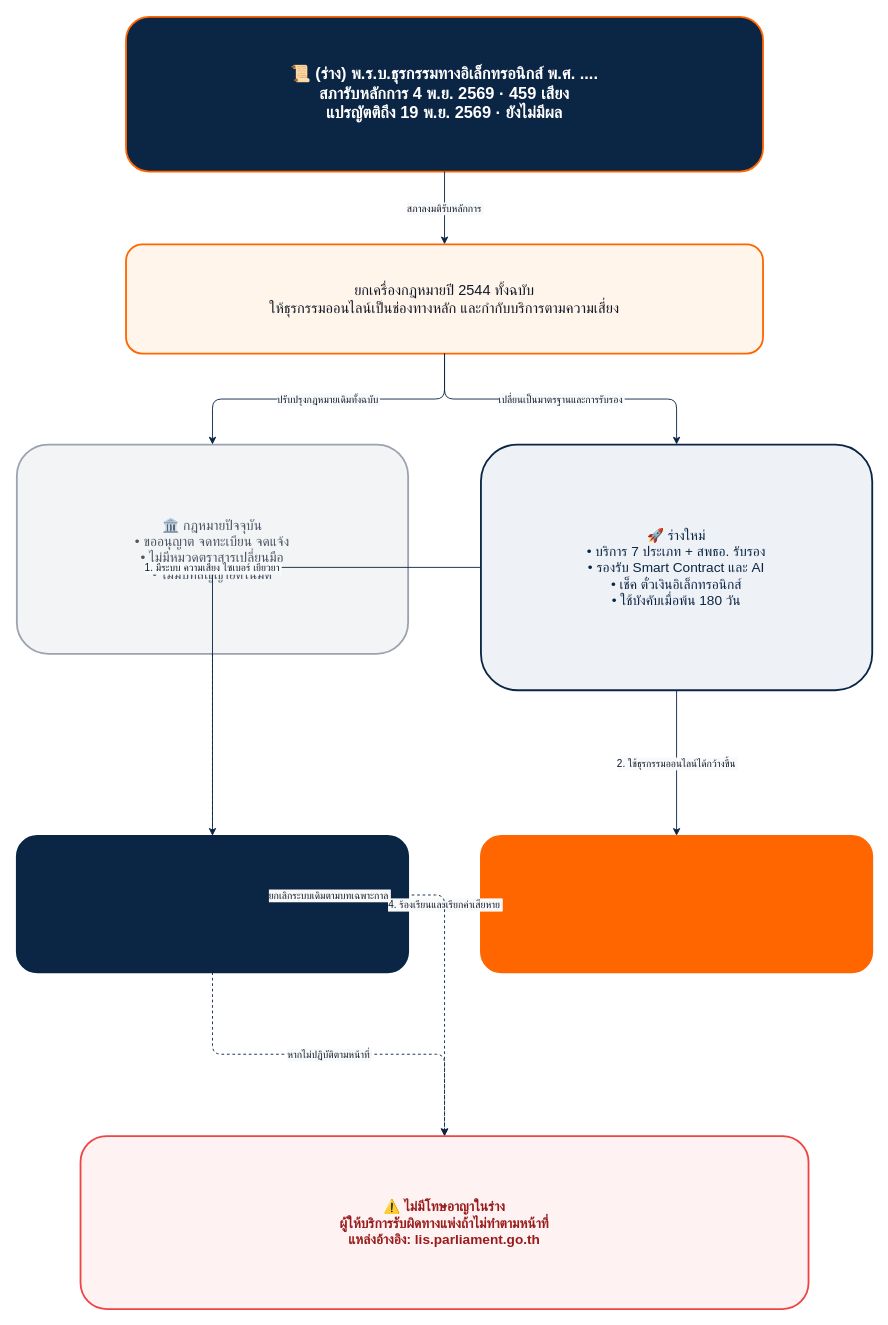
This 888x1325 diagram has some shape labels left out. The shapes that lost their labels are listed below. From the top down, each one's box as (x1, y1, x2, y2) in pixels, then its label:
(15, 834, 409, 973): 🏢 ผู้ให้บริการ e-KYC ลายเซ็น เก็บข้อมูล โดเมน
(480, 834, 873, 973): 👤 ประชาชน / ผู้ใช้บริการดิจิทัล
